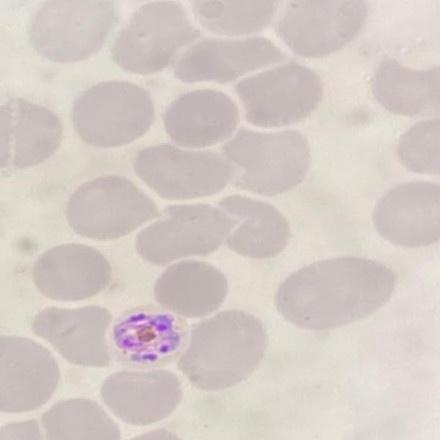Infected: (107, 303, 188, 372)
Uninfected: (274, 254, 399, 327), (139, 200, 247, 267), (180, 314, 269, 393), (67, 174, 157, 242), (71, 78, 153, 152), (114, 3, 196, 77), (29, 301, 110, 373), (223, 125, 307, 194), (176, 36, 287, 86), (32, 0, 116, 65), (236, 63, 324, 123), (0, 94, 63, 176), (136, 143, 234, 195), (274, 0, 366, 55), (224, 194, 293, 264), (33, 243, 110, 305), (102, 367, 181, 426), (166, 90, 239, 152), (0, 336, 57, 415), (373, 180, 440, 246), (154, 257, 226, 318)
